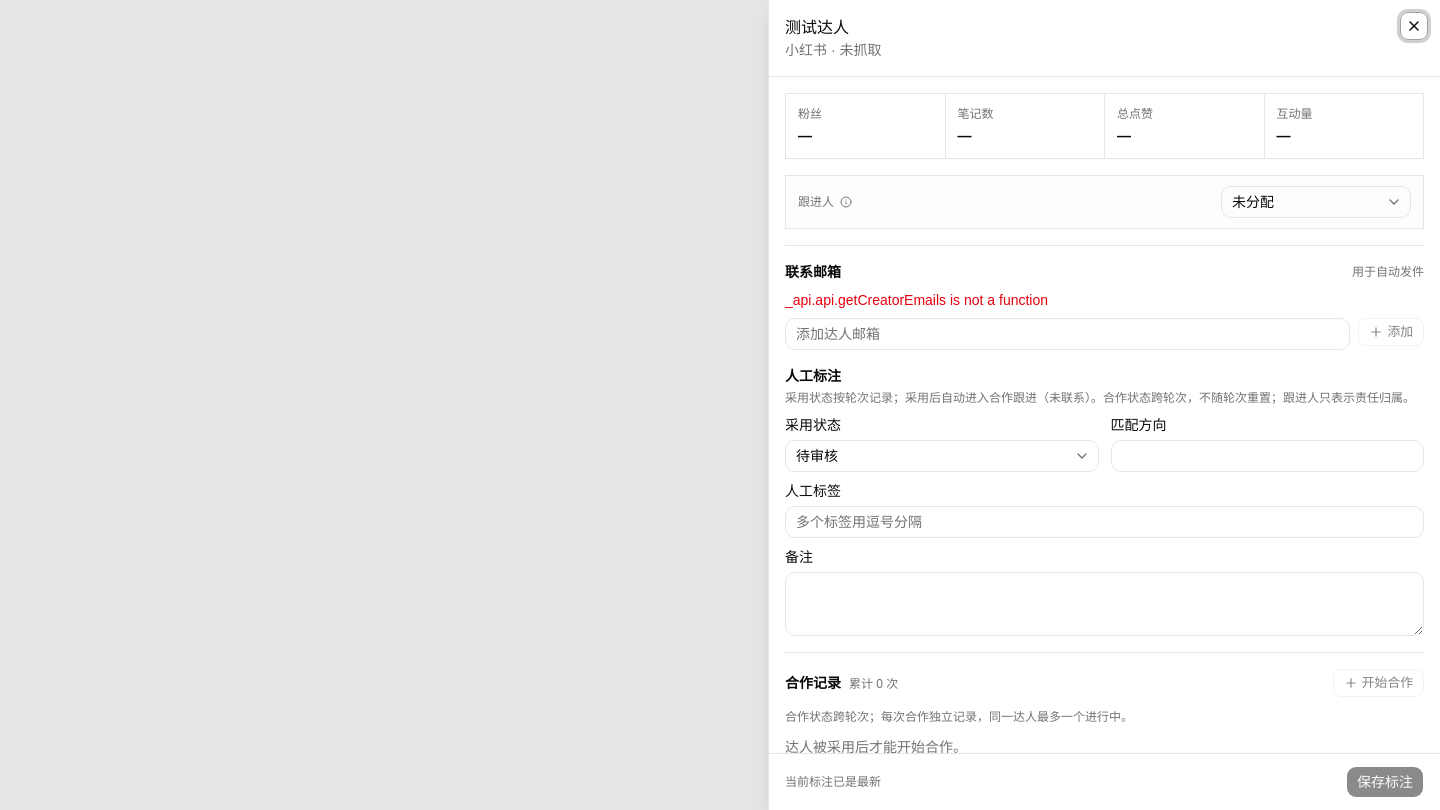
Scenario: CreatorSheet › asks before discarding unsaved edits
The width and height of the screenshot is (1440, 810).
Later steps or results of the test are not shown.
Type "咖啡" into the field labelled "人工标签". click: (1104, 522)
box: [785, 506, 1424, 538]
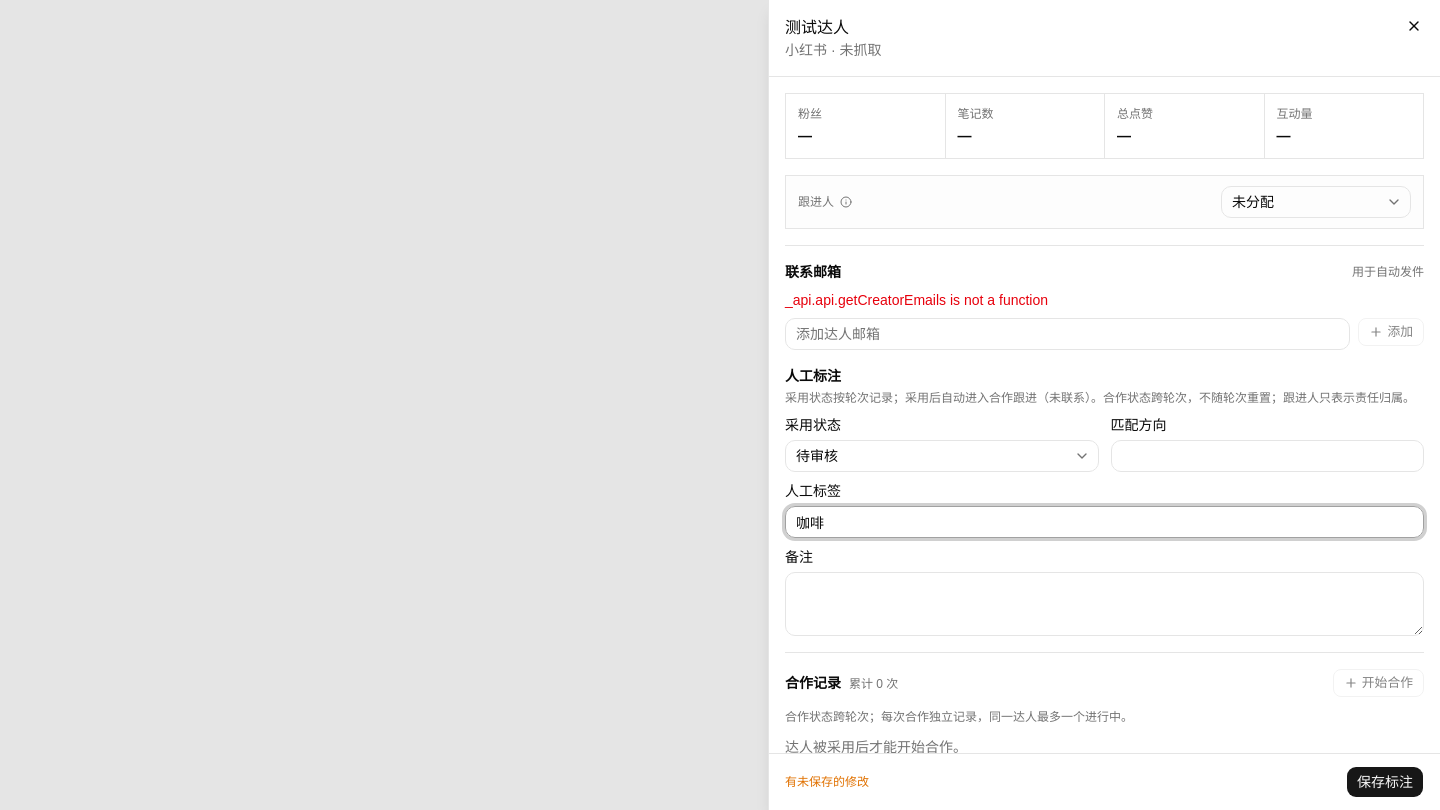
Click the button named "关闭". click: (1414, 26)
box: [1400, 12, 1428, 40]
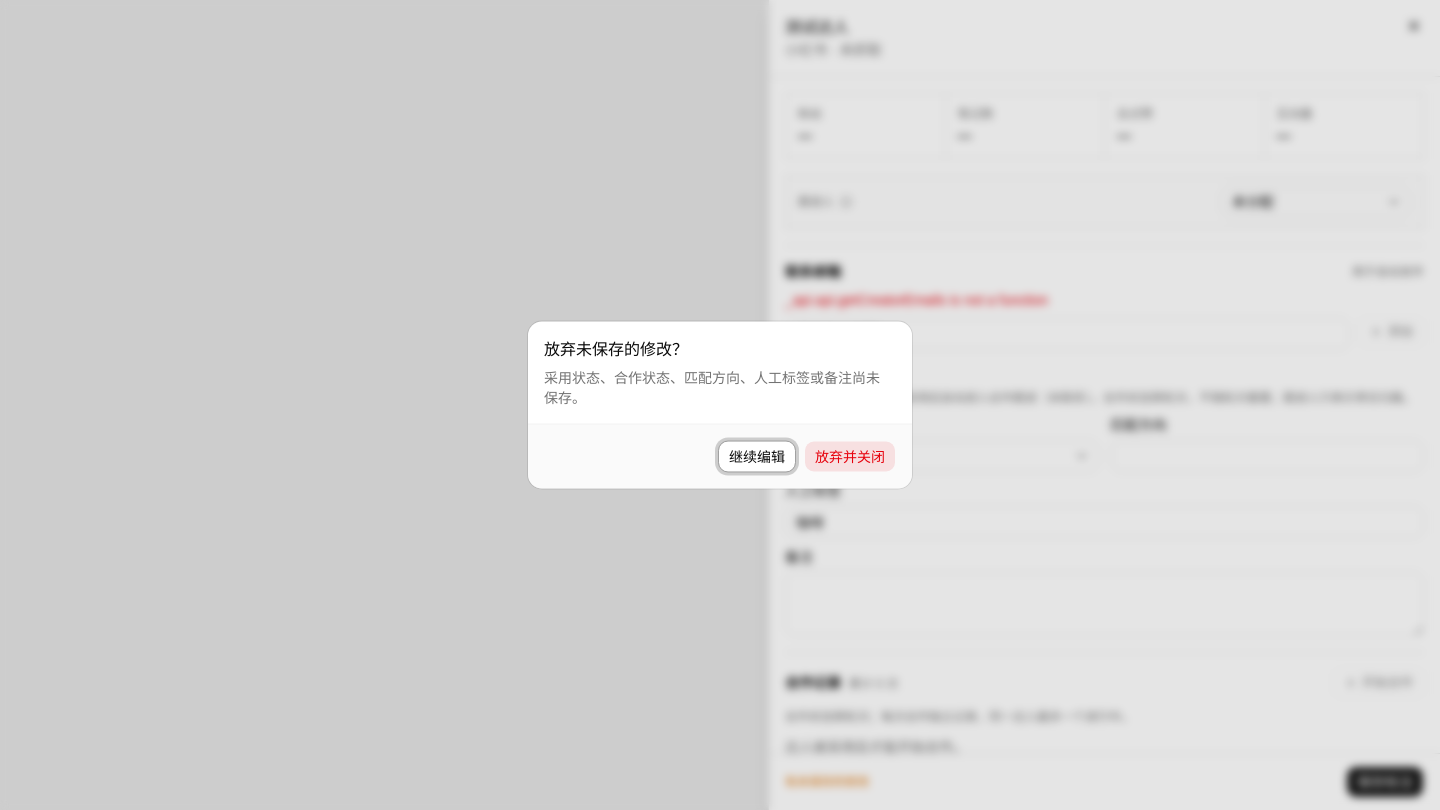
Result: the heading "放弃未保存的修改？" is shown at [544, 338, 688, 362]
